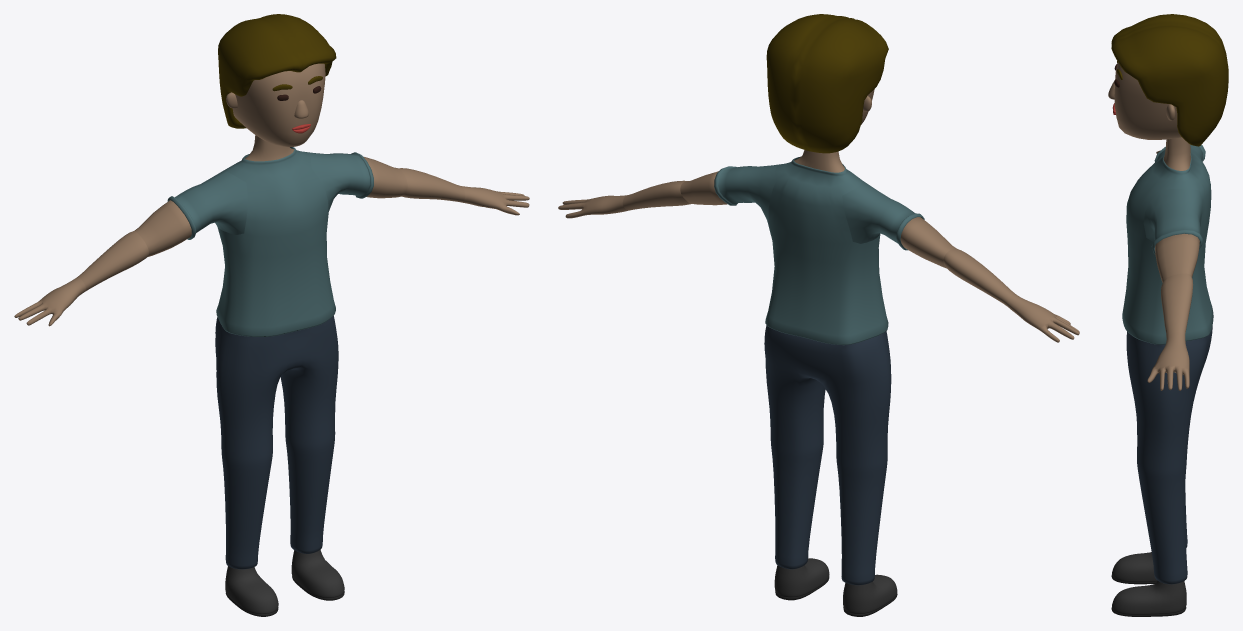
The model's file is personajePaciente.fbx.
3 renders of one model, left to right at view 1: azimuth 30°, elevation 25°; view 2: azimuth 150°, elevation 25°; view 3: azimuth 270°, elevation 25°, orthographic. The views are drawn at different scales.
Visible parts, largest first — view 1: cuerpo, brazos, antebrazos, manos; view 2: cuerpo, brazos, antebrazos, manos; view 3: cuerpo, brazos, antebrazos, manos.
Boxes of the visible parts, x1,y1,x2,y2 form: cuerpo: (215,14,344,616); brazos: (134,151,407,256); antebrazos: (78,168,465,291); manos: (14,186,529,326); cuerpo: (764,14,897,616); brazos: (680,163,956,268); antebrazos: (622,180,1014,306); manos: (558,195,1079,342); cuerpo: (1108,14,1228,616); brazos: (1143,144,1205,282); antebrazos: (1161,273,1193,337); manos: (1147,150,1189,390).
Size of the model in its own units: 653 by 698 by 133.
